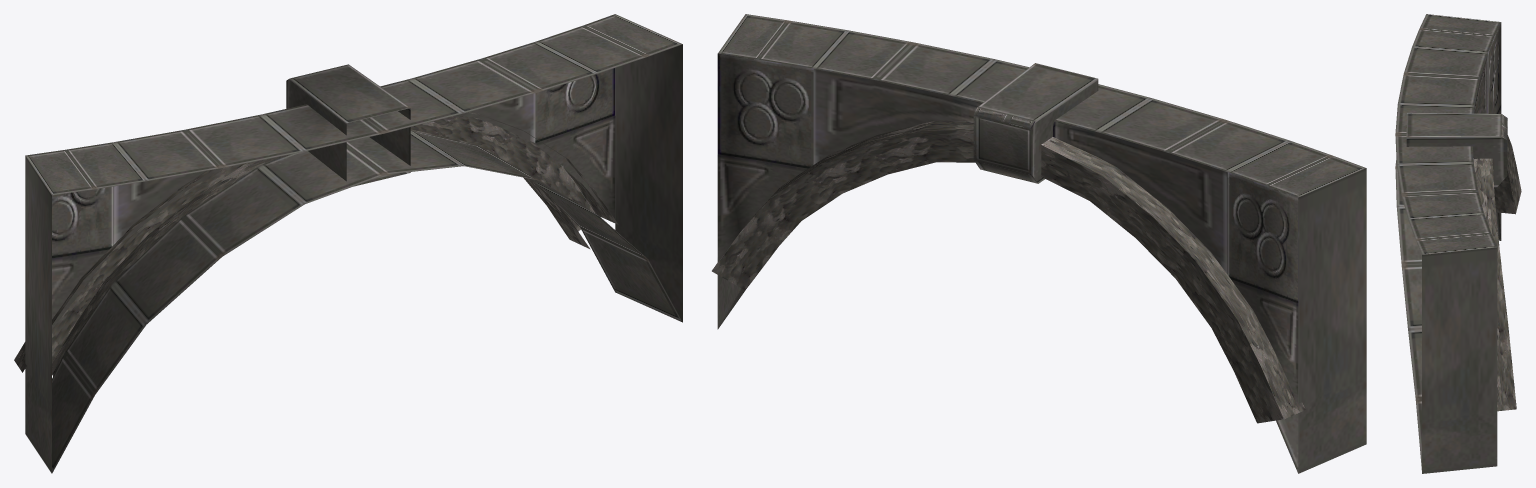
The model's file is CH09_SMAUG_PLAYSURFACE_LAIR36.fbx.
3 renders of one model, left to right at view 1: azimuth 30°, elevation 25°; view 2: azimuth 150°, elevation 25°; view 3: azimuth 270°, elevation 25°, orthographic. The views are drawn at different scales.
Parts seen in each view (by area): view 1: CH09_SMAUG_PLAYSURFACE_LAIR36; view 2: CH09_SMAUG_PLAYSURFACE_LAIR36; view 3: CH09_SMAUG_PLAYSURFACE_LAIR36.
Part boxes in pixels (x1,y1,x2,y2): CH09_SMAUG_PLAYSURFACE_LAIR36: [14, 14, 682, 473]; CH09_SMAUG_PLAYSURFACE_LAIR36: [712, 14, 1366, 473]; CH09_SMAUG_PLAYSURFACE_LAIR36: [1395, 14, 1521, 473].
Bounding box in the file's own units: 127212 × 56233 × 28132.
Materials: 3 (3 with a texture image).
